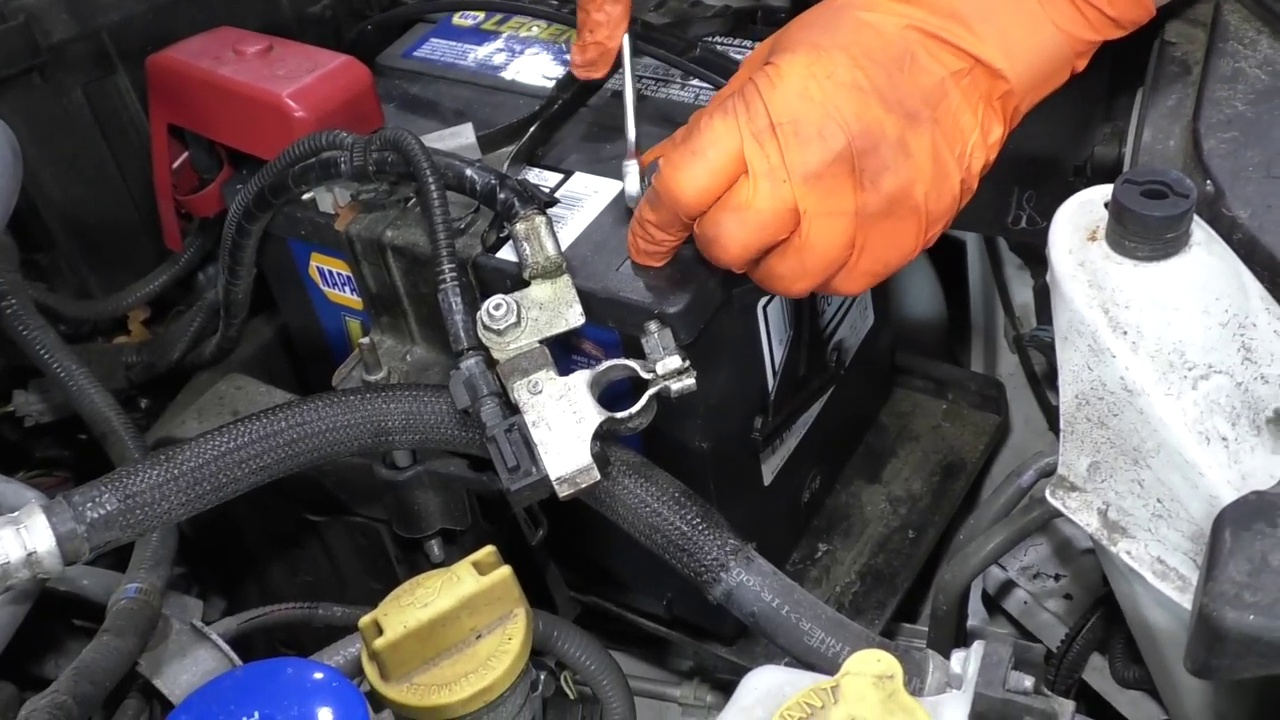battery: (270, 10, 829, 319)
pos_connected: (132, 20, 393, 257)
